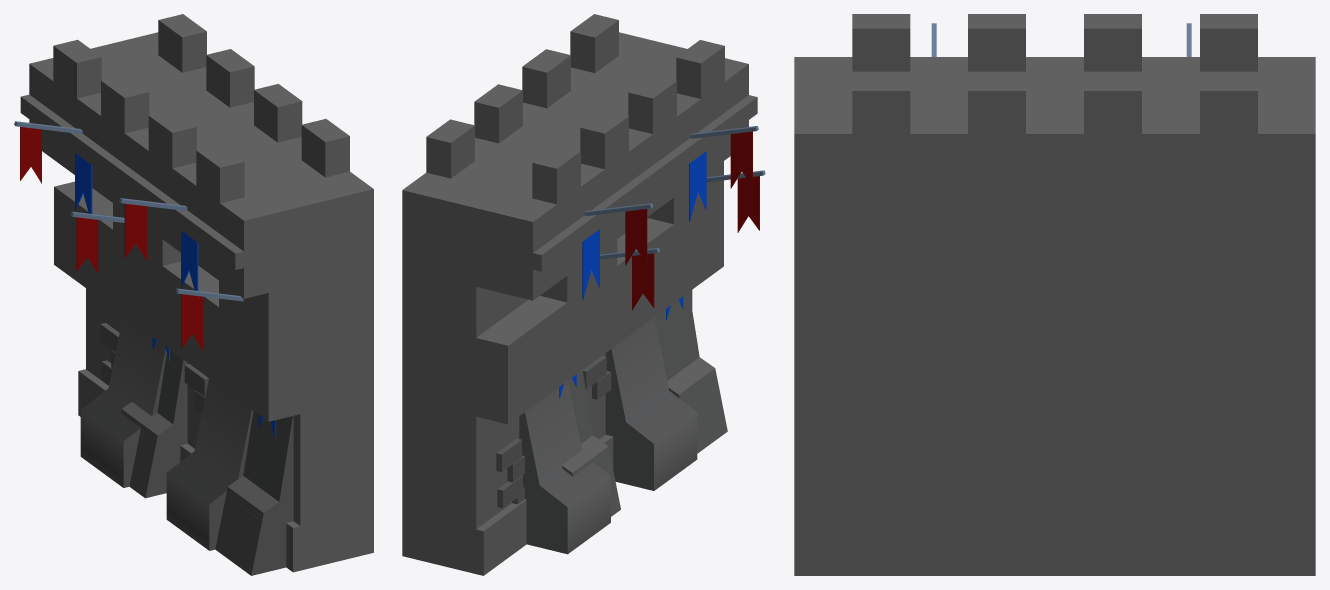
Rendered from Walls.fbx.
3 renders of one model, left to right at view 1: azimuth 30°, elevation 25°; view 2: azimuth 150°, elevation 25°; view 3: azimuth 270°, elevation 25°, orthographic. The views are drawn at different scales.
Visible parts, largest first — view 1: Wall_01_RedFlag, Wall_01, Wall_02_BlueFlag, Wall_02, Brick6; view 2: Wall_01_RedFlag, Wall_01, Wall_02_BlueFlag, Wall_02, Brick4, Brick3, Brick6; view 3: Wall_01_RedFlag, Wall_02_BlueFlag.
Part boxes in pixels (bbox=[...]): Wall_01_RedFlag: bbox=[14, 14, 373, 571]; Wall_01: bbox=[54, 181, 346, 575]; Wall_02_BlueFlag: bbox=[20, 59, 373, 505]; Wall_02: bbox=[78, 266, 346, 572]; Brick6: bbox=[184, 364, 208, 396]; Wall_01_RedFlag: bbox=[402, 14, 758, 575]; Wall_01: bbox=[430, 161, 765, 573]; Wall_02_BlueFlag: bbox=[402, 65, 757, 550]; Wall_02: bbox=[475, 296, 712, 575]; Brick4: bbox=[496, 438, 521, 472]; Brick3: bbox=[497, 475, 522, 508]; Brick6: bbox=[582, 356, 606, 389]; Wall_01_RedFlag: bbox=[794, 14, 1315, 575]; Wall_02_BlueFlag: bbox=[794, 14, 1315, 228].
Size of the model in its own units: 7.5 by 14.56 by 14.2.
